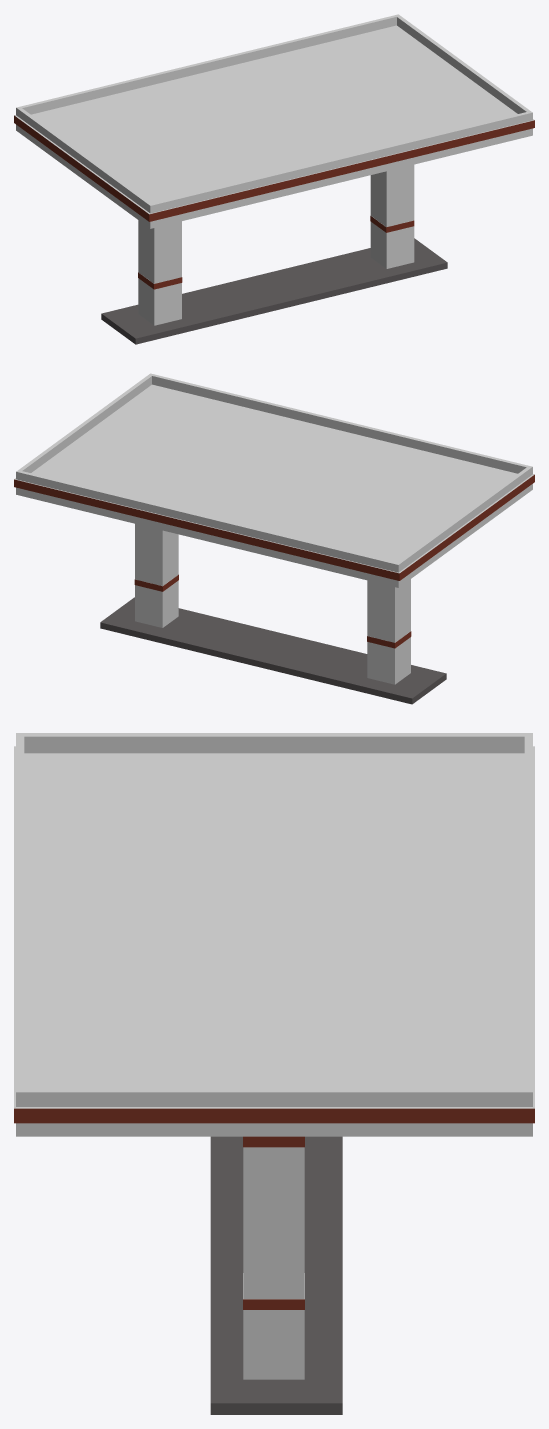
File: gas_station_arch.fbx
3 views of the same model, one above another, from view 1: azimuth 30°, elevation 25°; view 2: azimuth 150°, elevation 25°; view 3: azimuth 270°, elevation 25° (orthographic). The views are drawn at different scales.
Visible parts, largest first — view 1: Cube.003; view 2: Cube.003; view 3: Cube.003.
Part boxes in pixels (<box>): Cube.003: <box>14,14,534,344</box>; Cube.003: <box>14,373,534,704</box>; Cube.003: <box>14,733,534,1414</box>.
Size of the model in its own units: 2123 by 970 by 1290.
